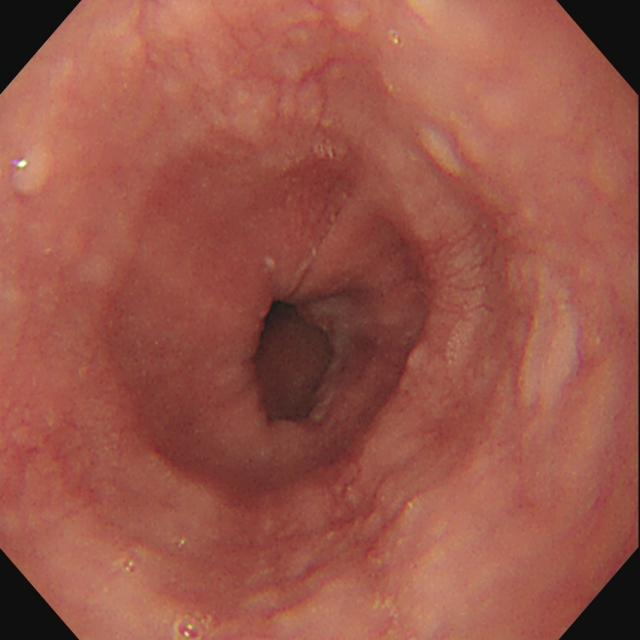A: (278, 142, 359, 229)
E: (250, 277, 342, 417)
T: (172, 620, 207, 640)
